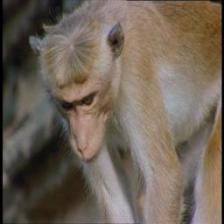monkey: (19, 0, 133, 172)
